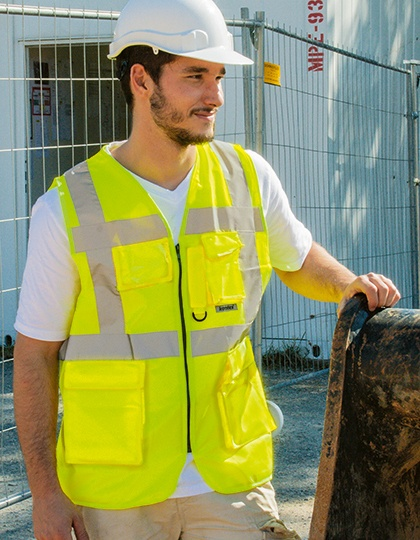helmet: (106, 1, 254, 68)
person with full safety: (19, 1, 306, 540)
safety vest: (57, 138, 274, 496)
